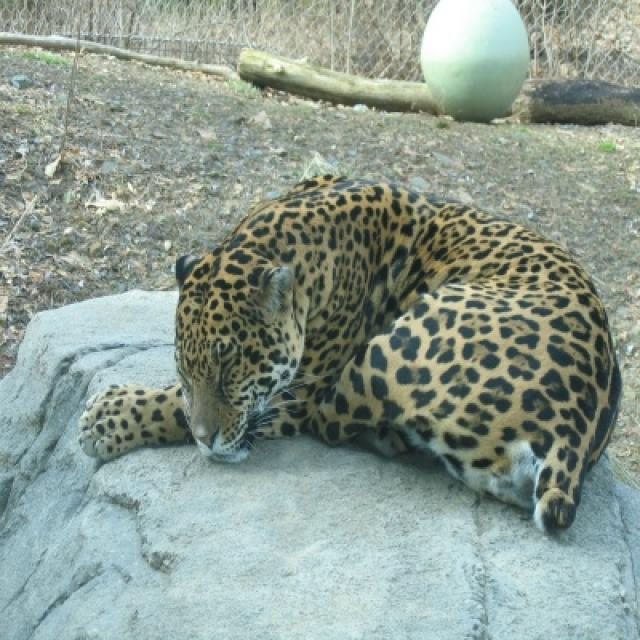Jaguar: (80, 176, 624, 542)
